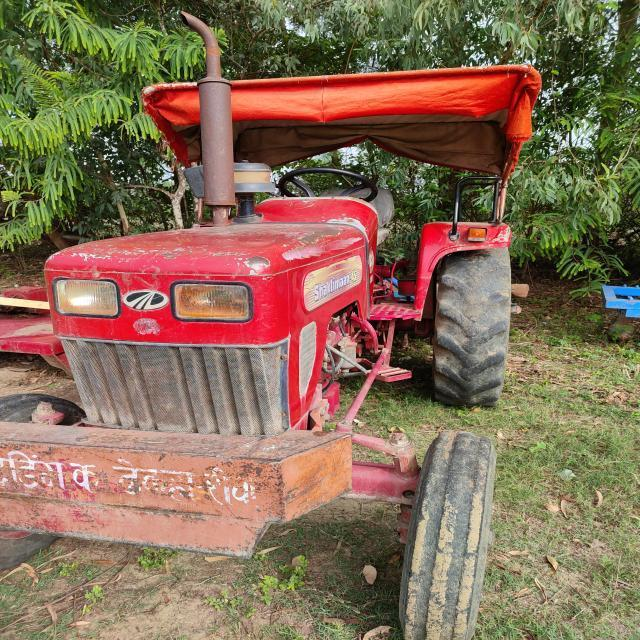tractor_front: (0, 0, 553, 639)
